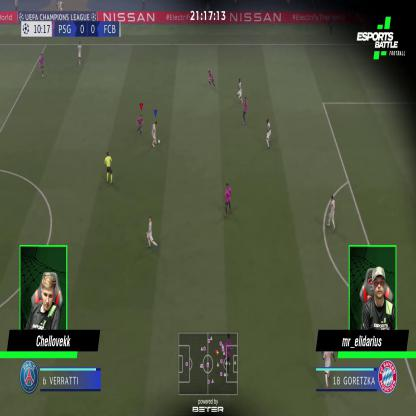ball: (158, 139, 160, 144)
